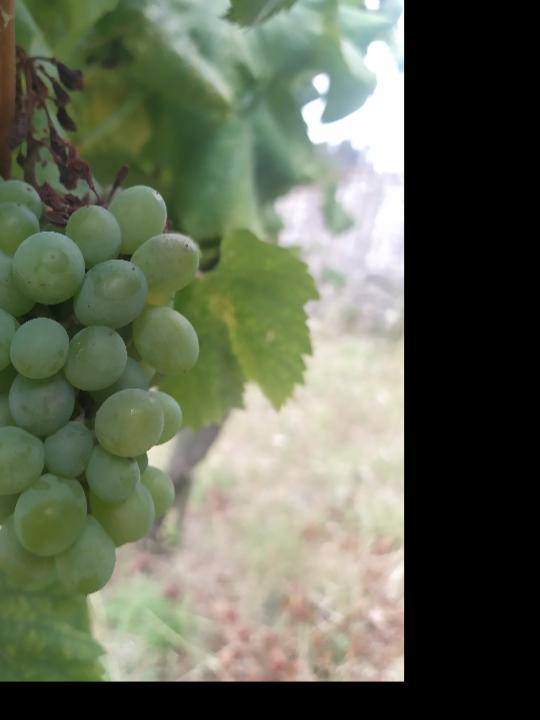grape: (0, 41, 206, 600)
